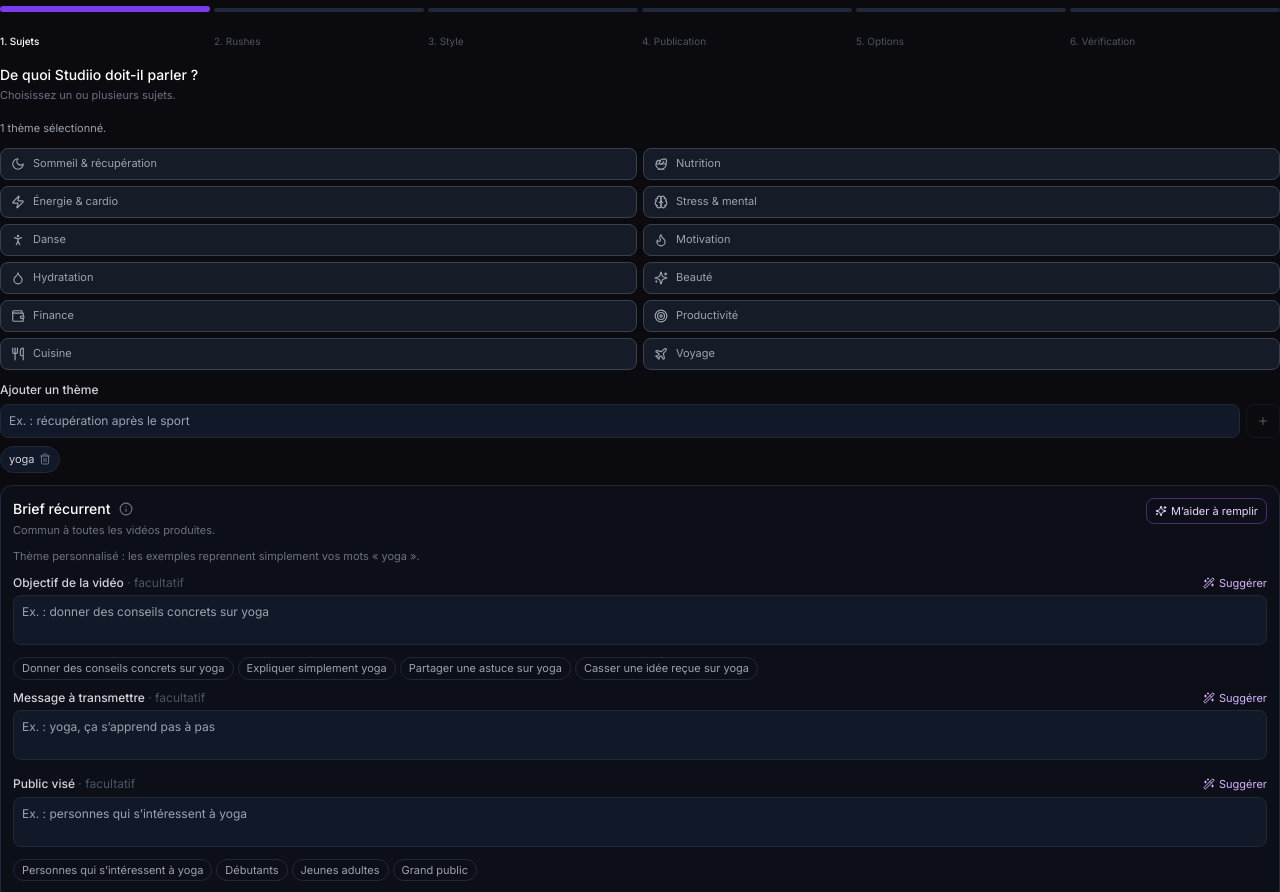
Test: sans plan enregistré : la suggestion affichée = les types rendus › stock seul
Step 1. Click the button named "Rushes" → (319, 10), box [214,8,424,12]
(page scrolled)
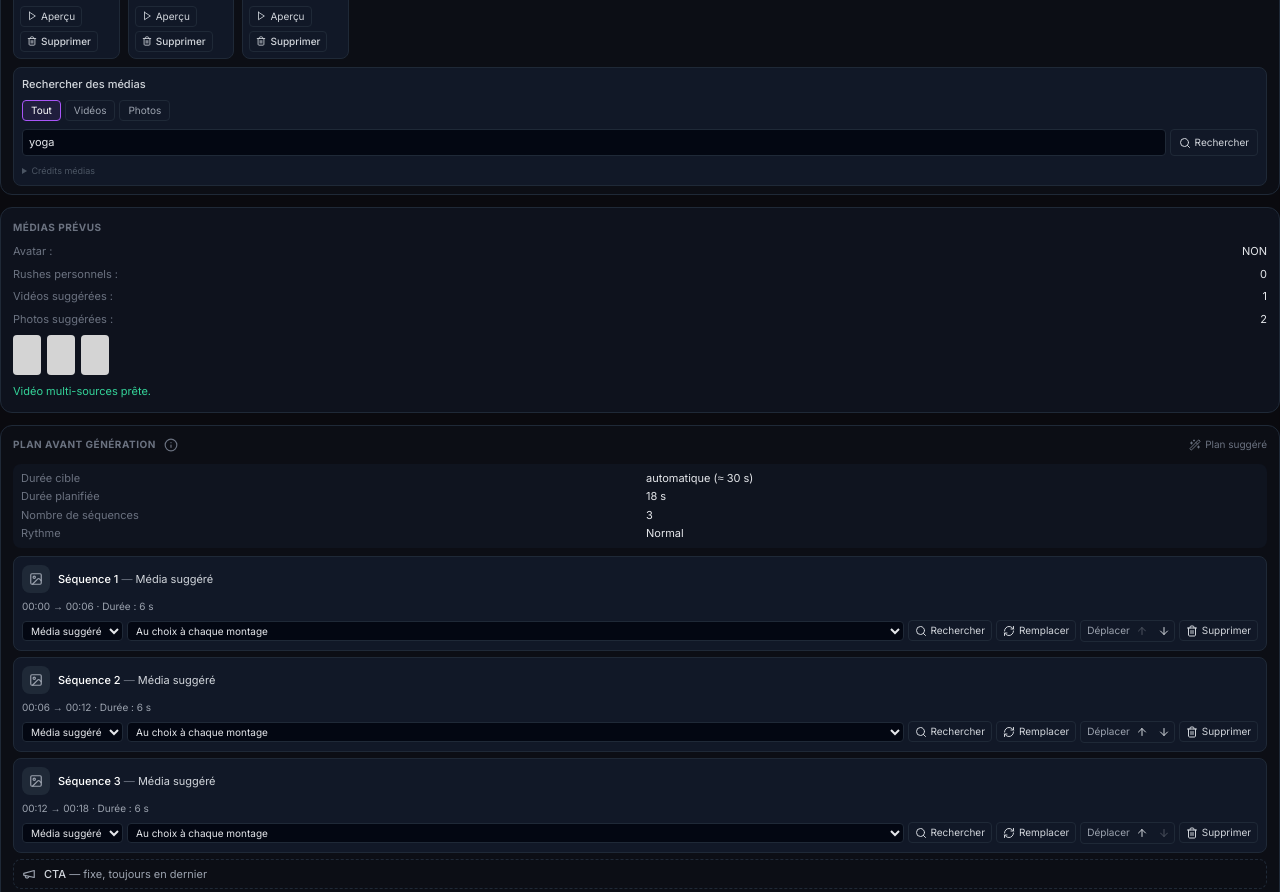
Result: the element showing "Plan suggéré" is shown at [1189,437,1267,452]
